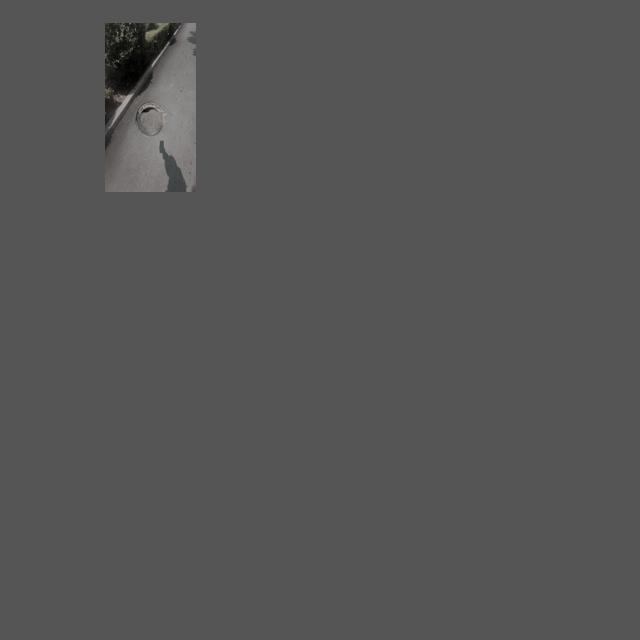broke: (136, 101, 166, 136)
